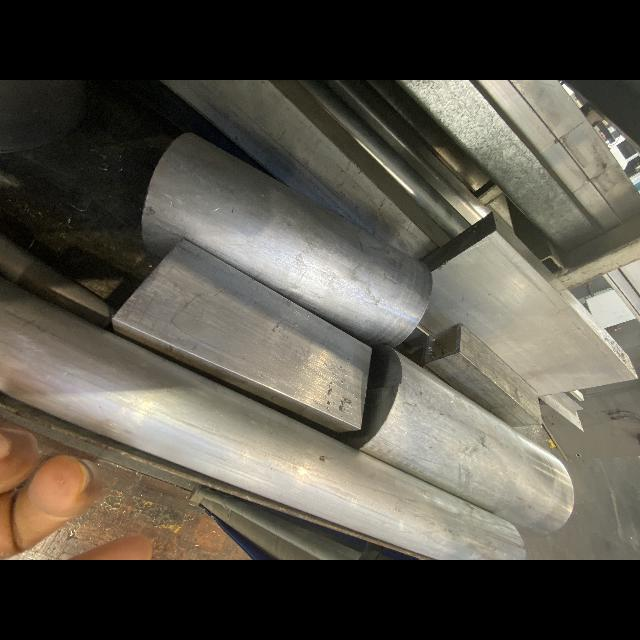Aluminium: (0, 279, 525, 560), (142, 133, 432, 346), (112, 241, 371, 432), (344, 344, 575, 537), (419, 211, 637, 395), (427, 322, 542, 427)
